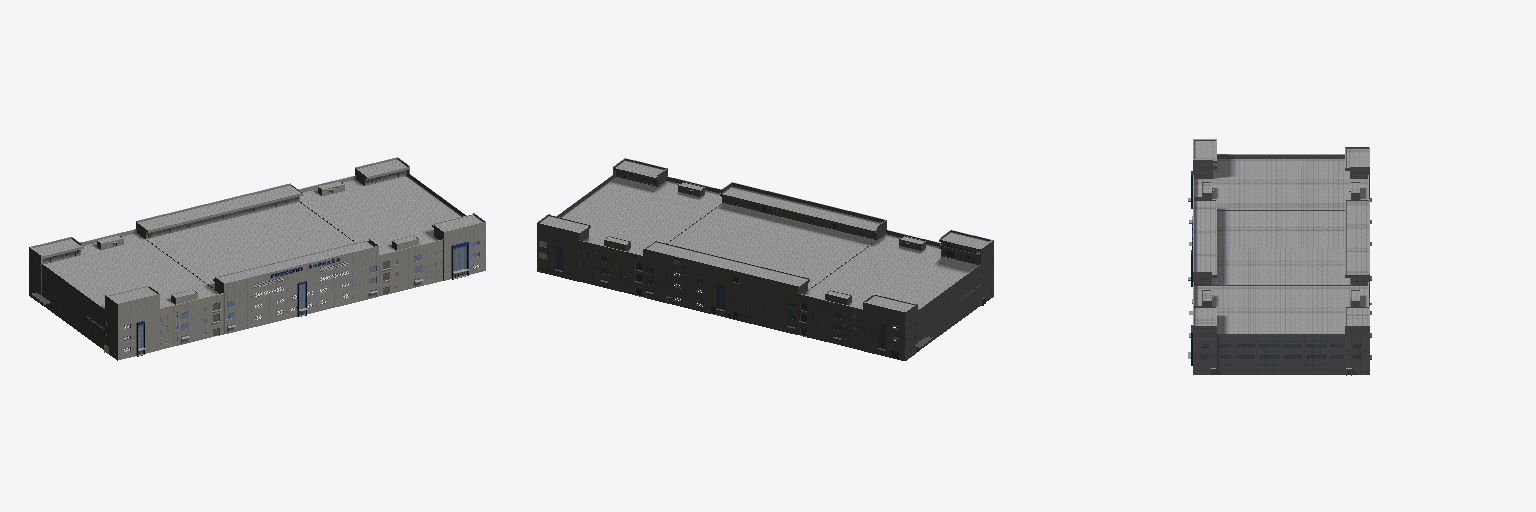
3 renders of one model, left to right at view 1: azimuth 30°, elevation 25°; view 2: azimuth 150°, elevation 25°; view 3: azimuth 270°, elevation 25°, orthographic.
Parts seen in each view (by area): view 1: building_01_02, building_01_01, building_01_glass, building_01_frame, building_01_door; view 2: building_01_02, building_01_01, building_01_glass, building_01_door; view 3: building_01_02, building_01_01, building_01_glass.
Boxes of the visible parts, x1,y1,x2,y2 form: building_01_02: [32, 159, 481, 308]; building_01_01: [29, 157, 485, 360]; building_01_glass: [39, 190, 478, 353]; building_01_frame: [54, 175, 479, 354]; building_01_door: [40, 173, 465, 354]; building_01_02: [540, 160, 989, 346]; building_01_01: [537, 158, 993, 360]; building_01_glass: [544, 205, 991, 348]; building_01_door: [540, 174, 974, 358]; building_01_02: [1194, 140, 1368, 333]; building_01_01: [1188, 139, 1371, 375]; building_01_glass: [1202, 344, 1359, 358].
Size of the model in its own units: 2219 by 319 by 938.
Materials: 5 (5 with a texture image).